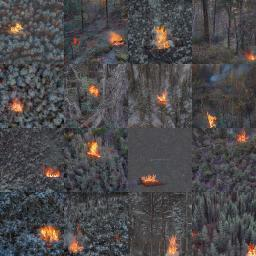Small fire: (147, 23, 181, 54), (32, 218, 64, 249), (103, 25, 130, 53), (3, 15, 28, 40), (138, 169, 167, 190), (84, 139, 108, 162), (5, 96, 30, 117), (233, 130, 256, 152), (163, 232, 184, 256), (42, 160, 65, 181), (152, 88, 174, 109), (67, 235, 88, 255), (87, 81, 106, 102), (200, 110, 220, 128), (240, 47, 256, 65), (245, 240, 256, 256)
